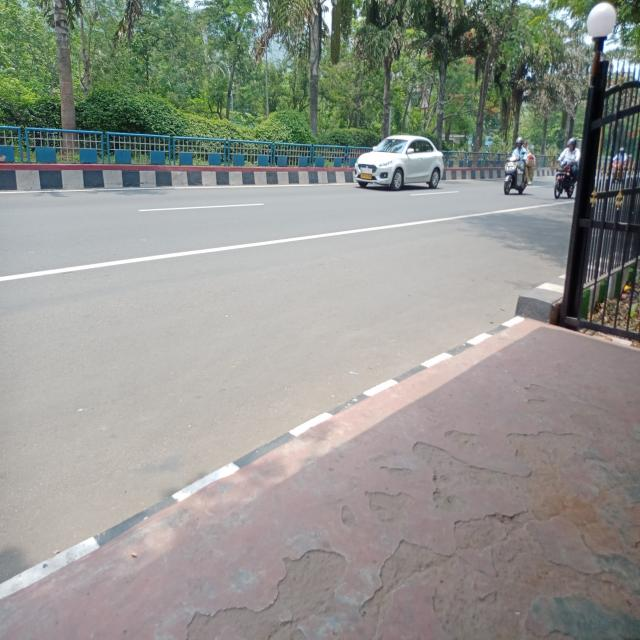bike: (503, 149, 532, 205), (551, 160, 580, 201)
car: (342, 107, 448, 199)
